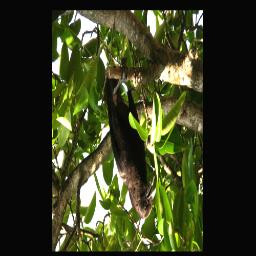Crow: (104, 65, 158, 222)
